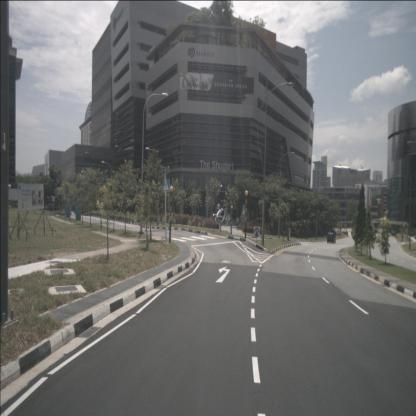human-pedestrian-adult: (236, 217, 239, 231)
vehicle-car: (327, 232, 336, 244)
